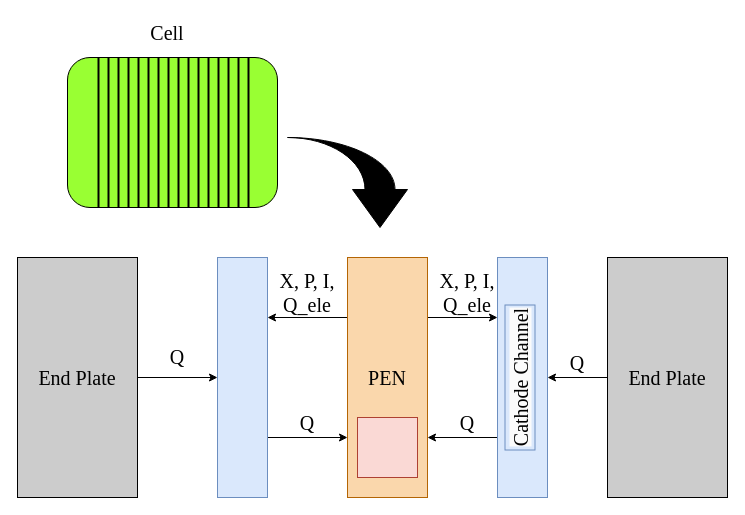
The diagram is 745 pixels wide and 515 high, and some of its shapes have lost their labels. The centre of each missing label's shape, as x and y in pixels:
Anode Channel: [242,377]
Electrochem: [387,447]
